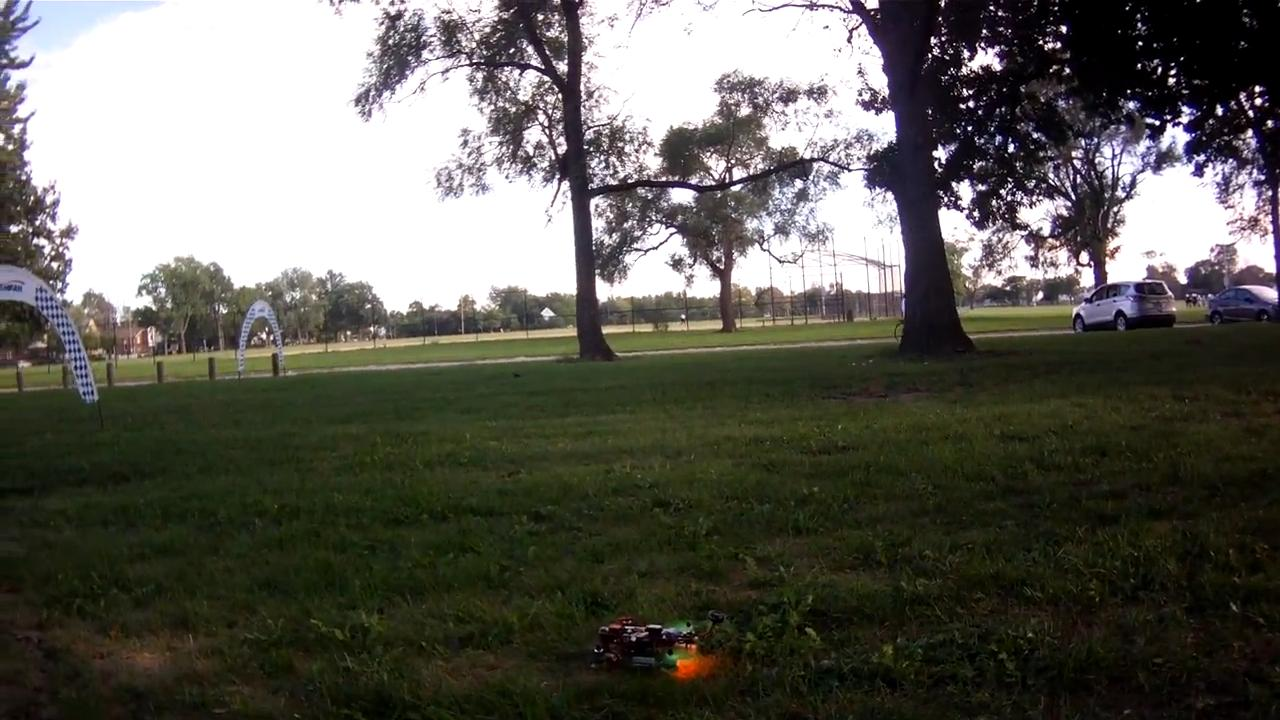gate: (234, 298, 285, 376)
